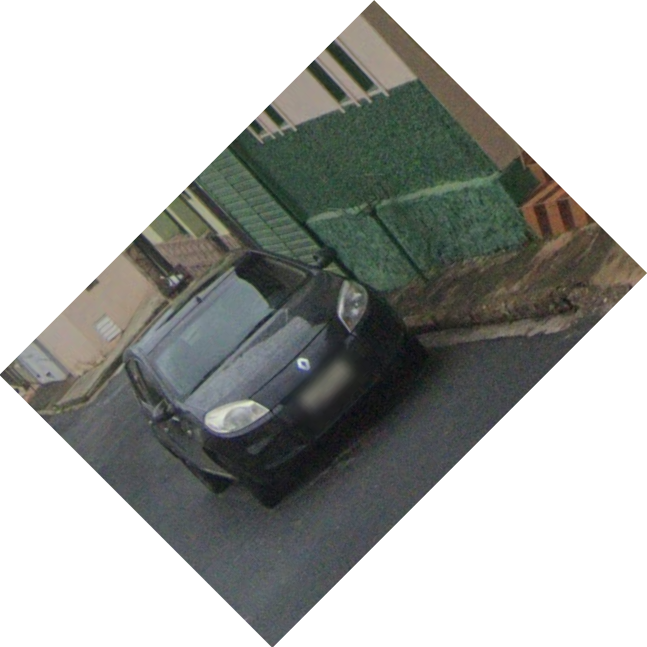car: (118, 244, 436, 512)
